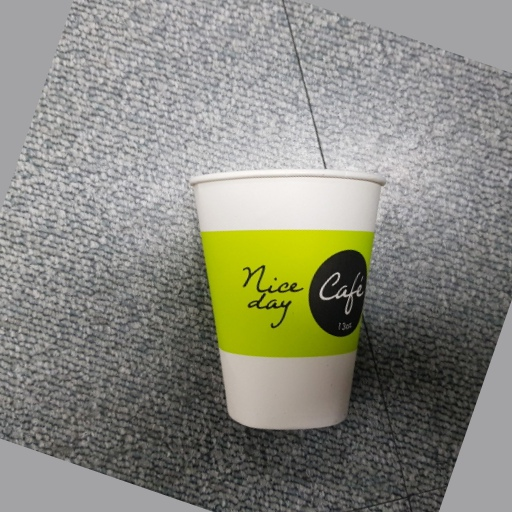Paper_1: (188, 167, 388, 429)
